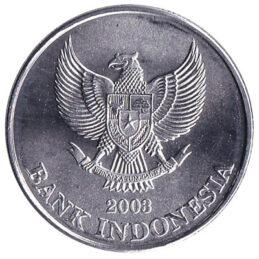coin_200_e2003: (3, 3, 255, 252)
